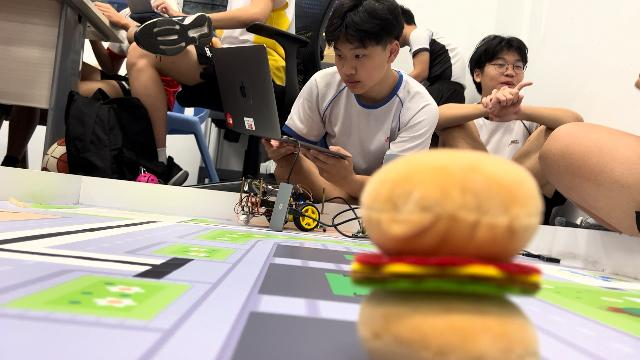burger: (348, 146, 546, 358)
